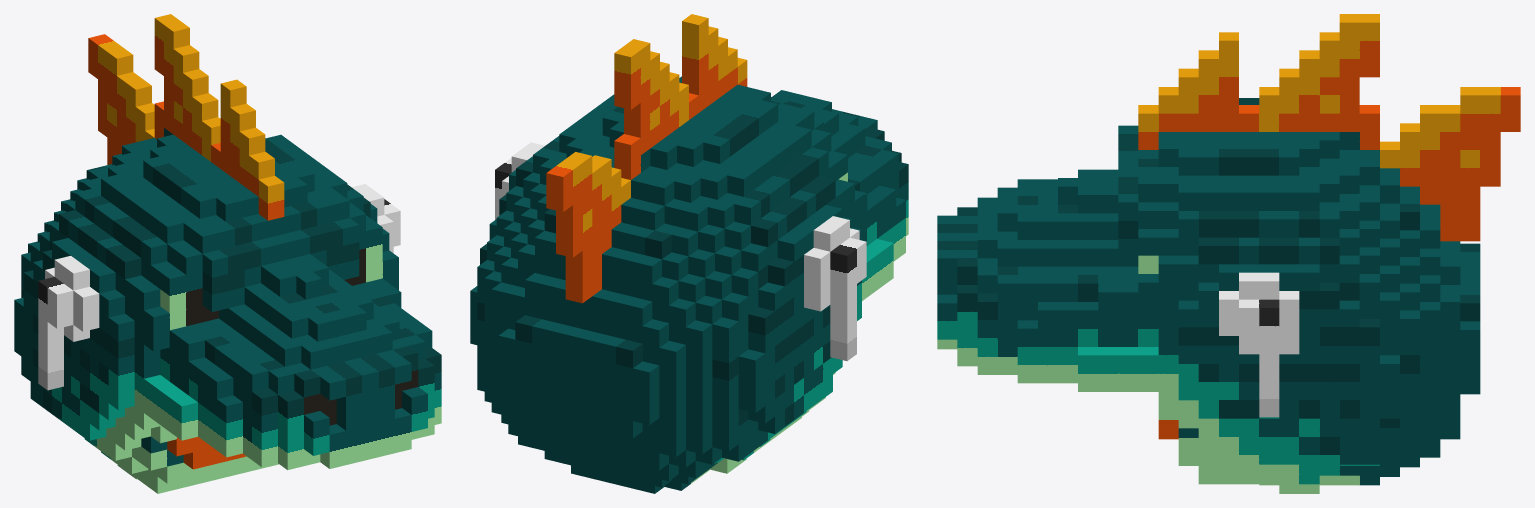
File: airpods.gltf
The picture shows the model from 3 angles, left to right: view 1: azimuth 30°, elevation 25°; view 2: azimuth 150°, elevation 25°; view 3: azimuth 270°, elevation 25°; orthographic projection. The views are drawn at different scales.
Visible parts, largest first — view 1: 20_Zilla_Head_AirPods-Mesh; view 2: 20_Zilla_Head_AirPods-Mesh; view 3: 20_Zilla_Head_AirPods-Mesh.
Part boxes in pixels (bbox=[...]): 20_Zilla_Head_AirPods-Mesh: bbox=[14, 14, 441, 493]; 20_Zilla_Head_AirPods-Mesh: bbox=[470, 14, 908, 493]; 20_Zilla_Head_AirPods-Mesh: bbox=[937, 14, 1520, 493].
Bounding box in the file's own units: 21 × 24 × 29.
1 material, 1 textured.
